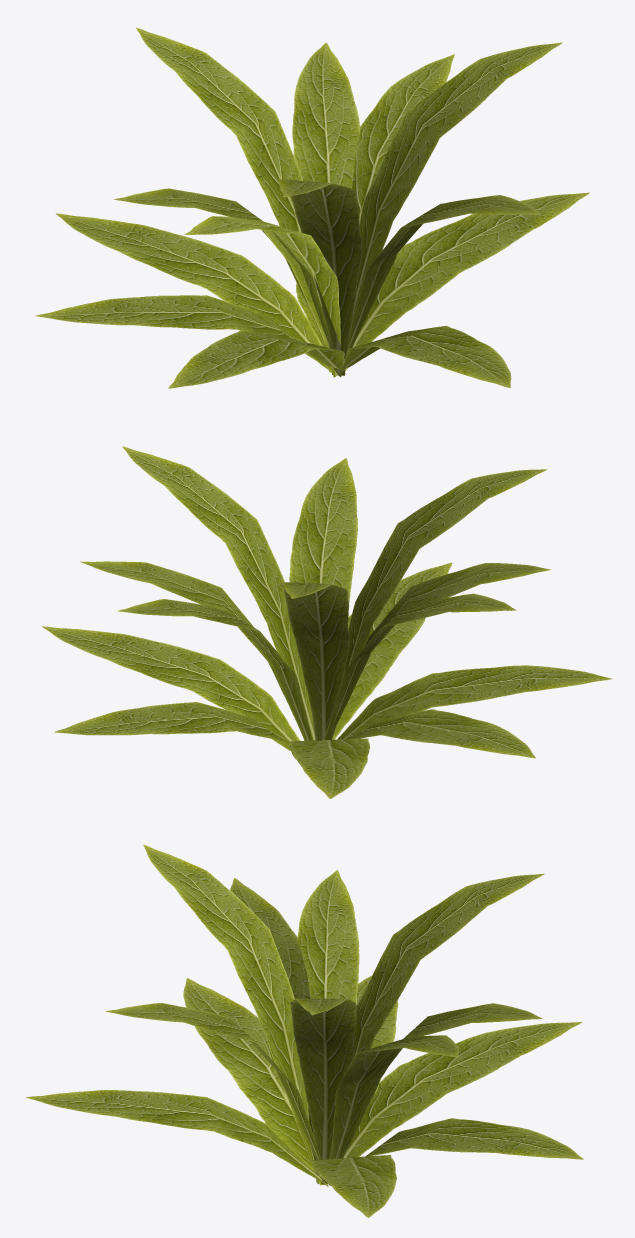
Rendered from Bush.FBX.
The picture shows the model from 3 angles, top to bottom: view 1: azimuth 30°, elevation 25°; view 2: azimuth 150°, elevation 25°; view 3: azimuth 270°, elevation 25°; orthographic projection. The views are drawn at different scales.
Visible parts, largest first — view 1: Plane004; view 2: Plane004; view 3: Plane004.
Part boxes in pixels (<box>): Plane004: <box>35,27,589,388</box>; Plane004: <box>42,446,611,798</box>; Plane004: <box>26,844,583,1217</box>.
Bounding box in the file's own units: 99.94 × 47.37 × 96.46.
